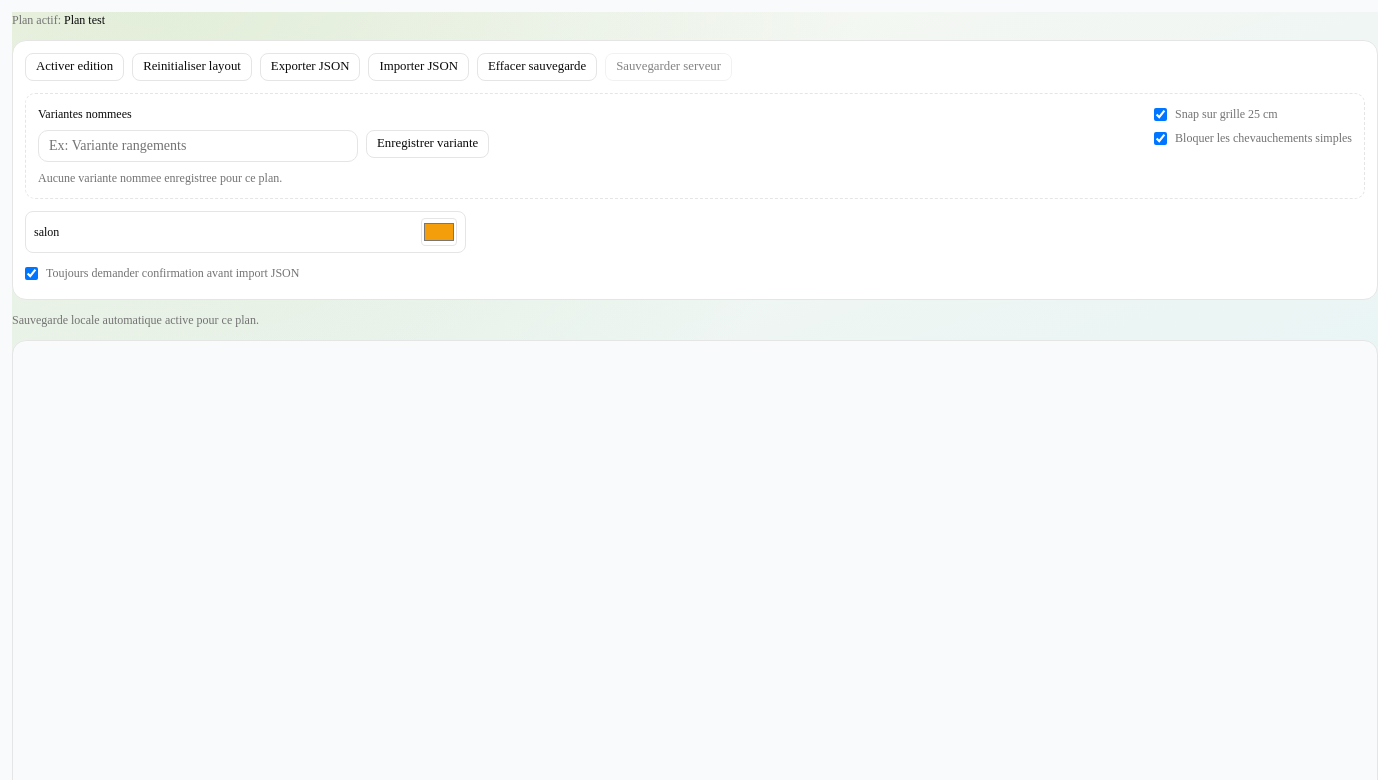
Plan3DHabitat import/export › exporte la configuration en JSON
Click the button "Exporter JSON" at (310, 67), box [260,53,360,81]
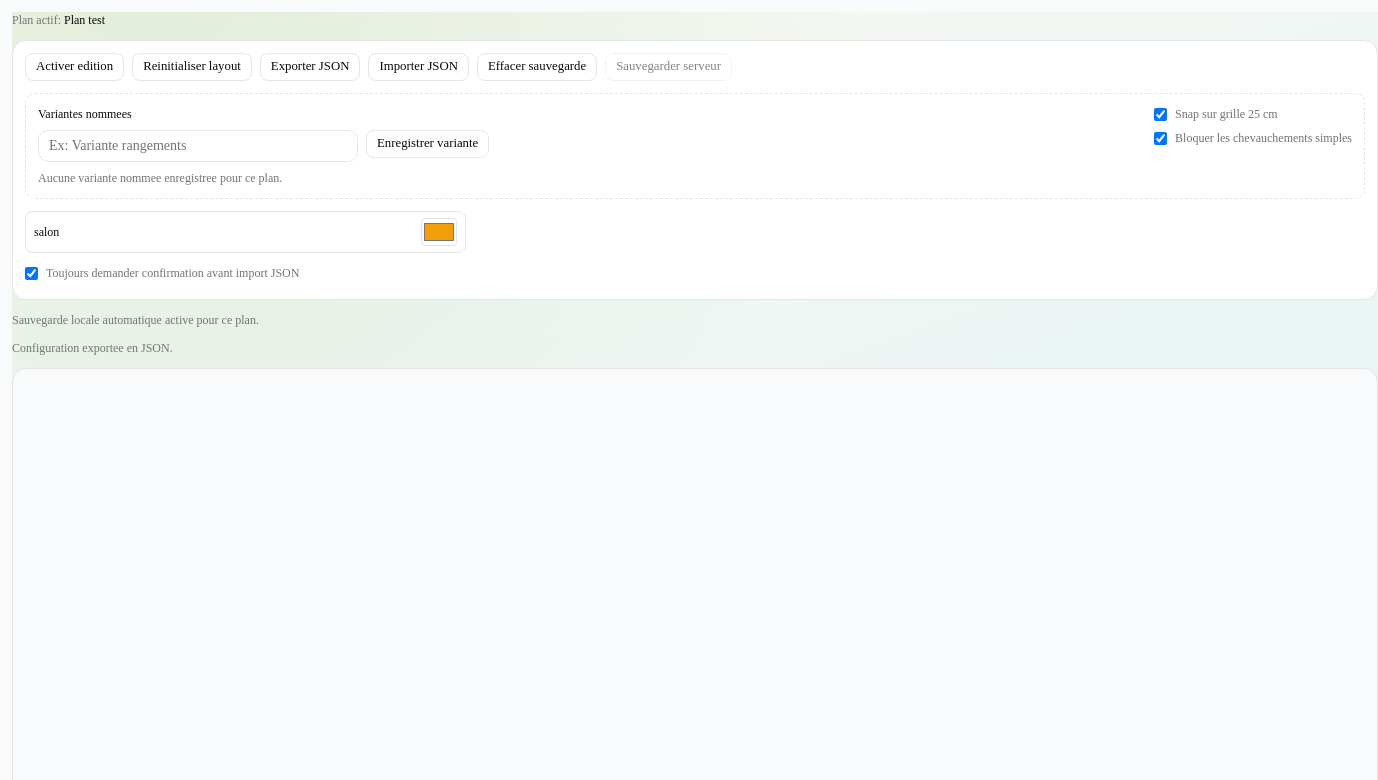
expect the text "Configuration exportee en JSON." is shown: met, box [12,340,173,354]
